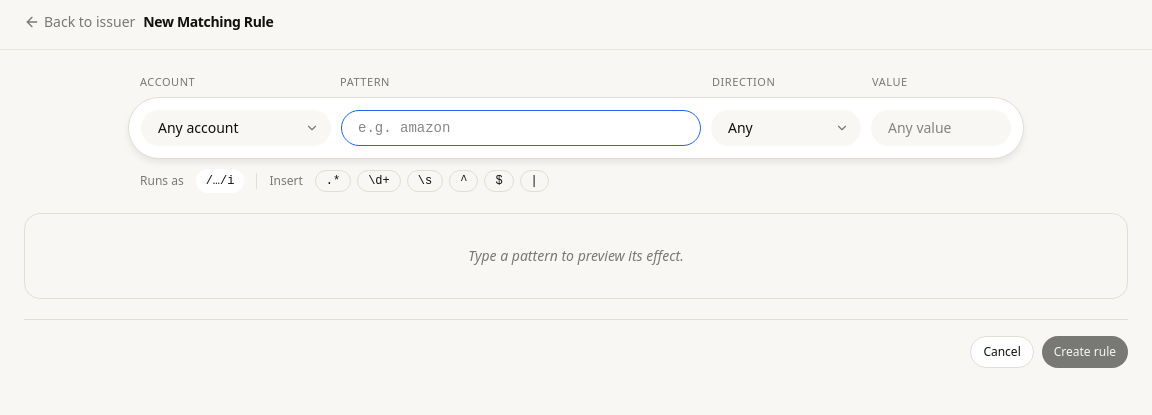
RuleFormPage — create › warns when the pattern is an invalid regex
This screenshot has width=1152, height=415.
Type "(unclosed" into the field named "Matching Rule pattern". click: [521, 128]
box: [341,110,701,146]
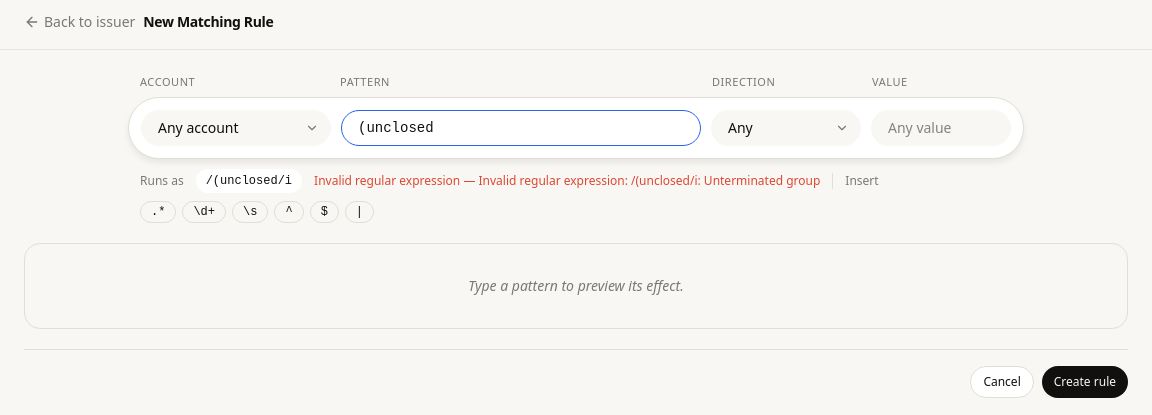
Expected: the text "Invalid regular expression" is shown, [314,172,478,188]
Expected: the message is shown, [314,172,820,188]
